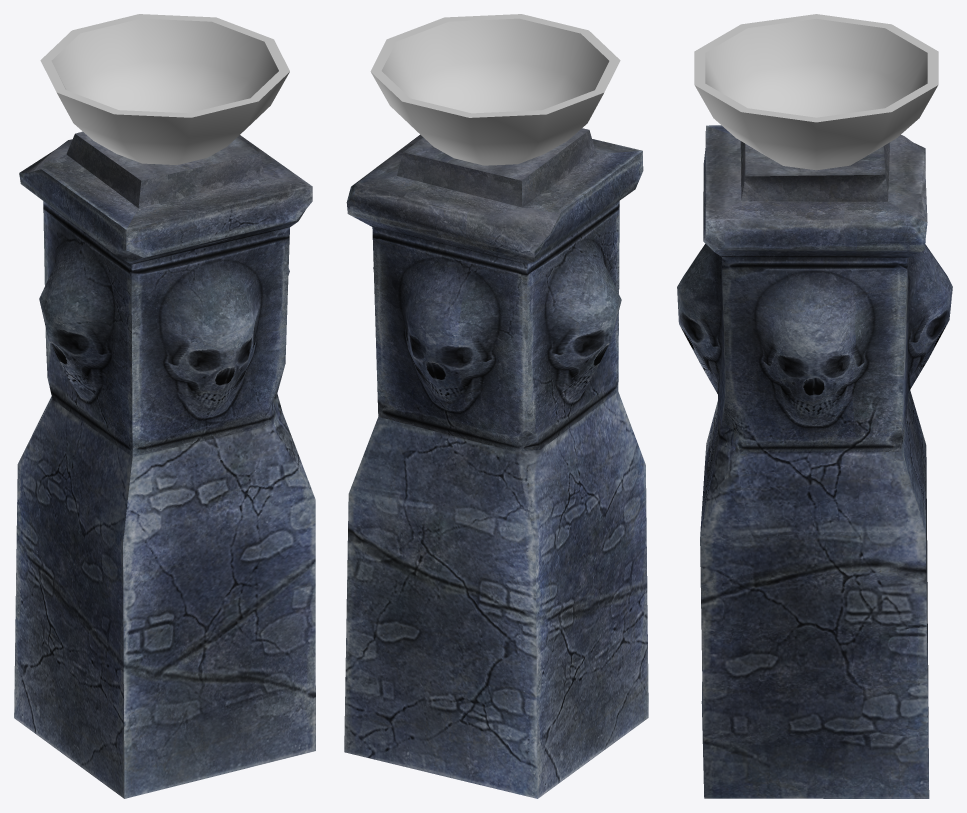
File: FireStand.FBX
3 views of the same model, side by side, from view 1: azimuth 30°, elevation 25°; view 2: azimuth 150°, elevation 25°; view 3: azimuth 270°, elevation 25° (orthographic). The views are drawn at different scales.
Visible parts, largest first — view 1: FireStand; view 2: FireStand; view 3: FireStand.
Boxes of the visible parts, box(x1,y1,x2,y2) form: FireStand: box(14, 14, 315, 798); FireStand: box(344, 14, 648, 798); FireStand: box(677, 14, 952, 798).
Bounding box in the file's own units: 0.725 × 1.96 × 0.7176.
